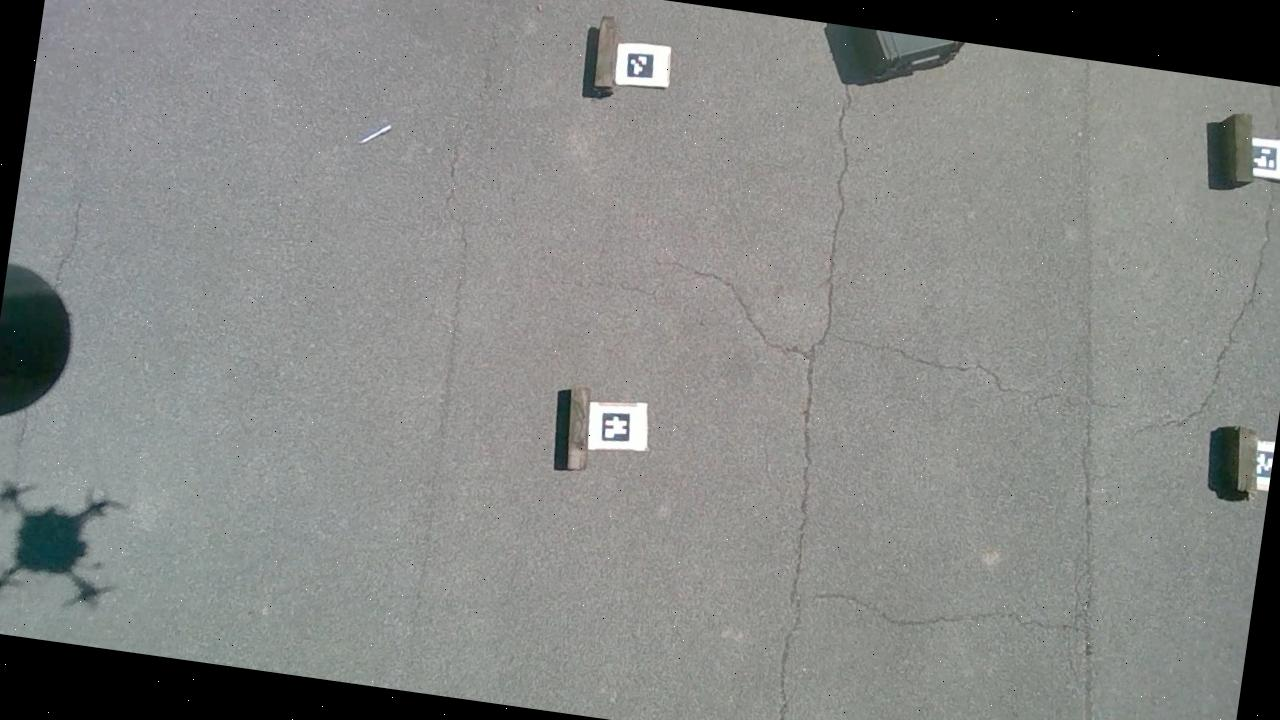probes: (358, 121, 392, 147)
